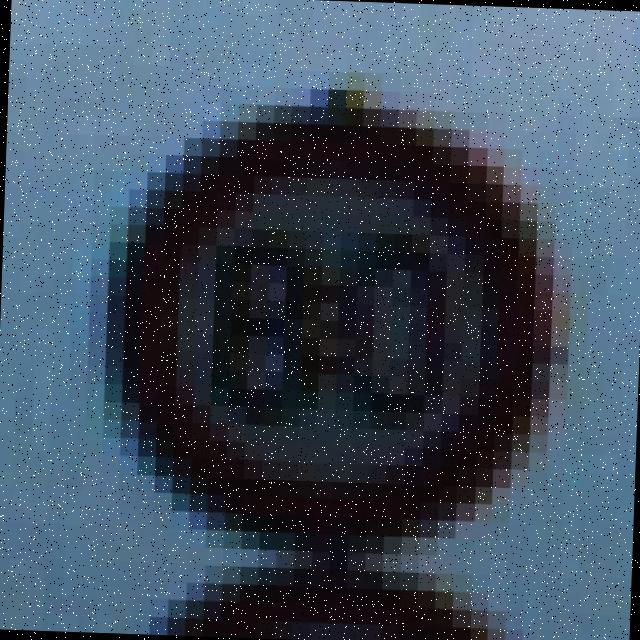Ograniczenie predkosci do 80: (117, 118, 544, 550)
